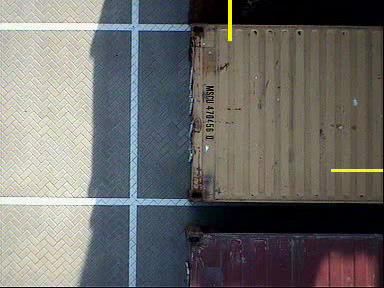groundmarker_2: (46, 48, 143, 111)
